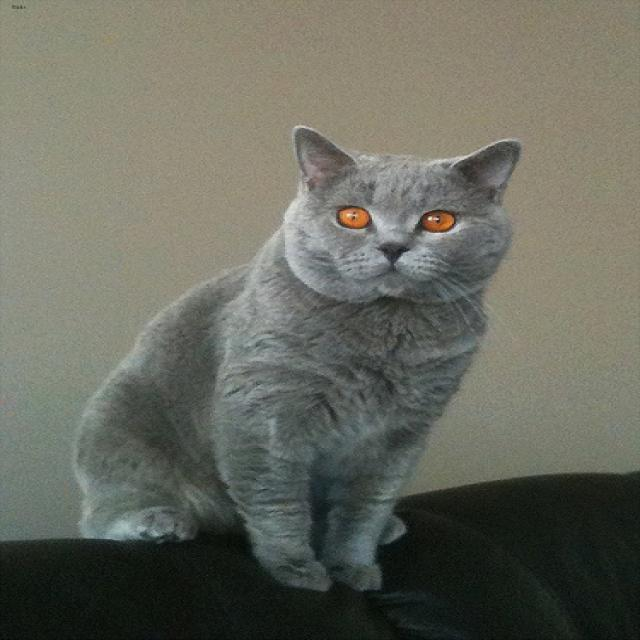British_Shorthair: (290, 124, 517, 293)
